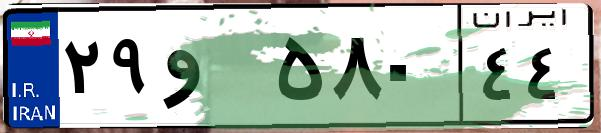0: (385, 28, 445, 110)
2: (57, 26, 110, 100)
4: (475, 38, 525, 113), (525, 38, 570, 115)
5: (270, 28, 330, 110)
8: (330, 28, 385, 110)
9: (110, 28, 158, 98)
و: (158, 20, 270, 120)
